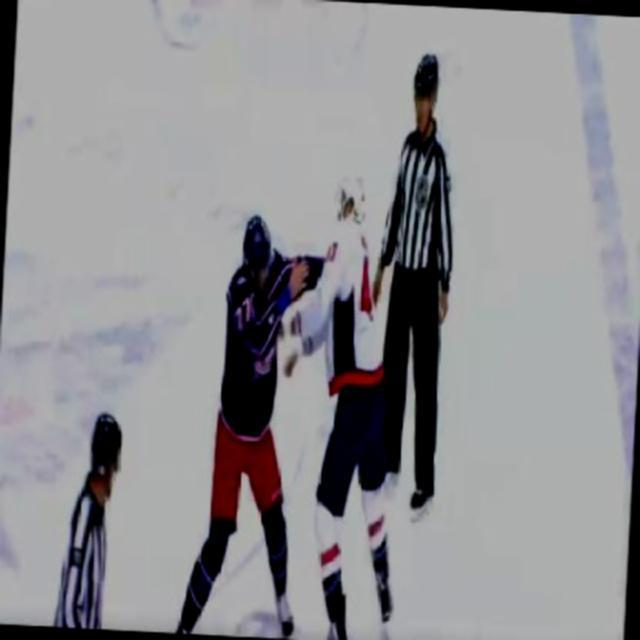fight: (194, 162, 416, 638)
